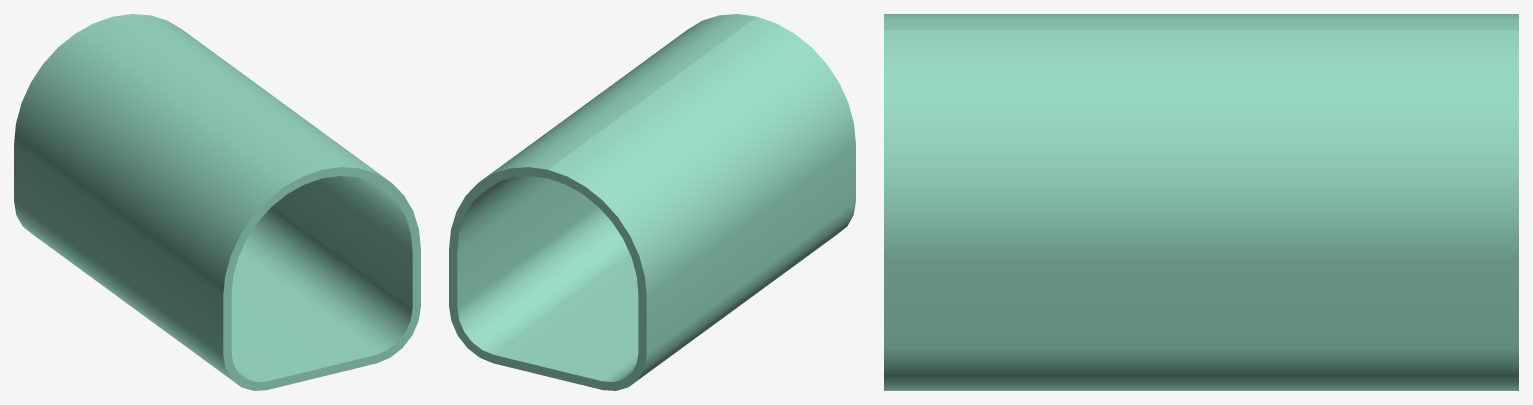
Rendered from GlassHallway.fbx.
The picture shows the model from 3 angles, left to right: view 1: azimuth 30°, elevation 25°; view 2: azimuth 150°, elevation 25°; view 3: azimuth 270°, elevation 25°; orthographic projection. The views are drawn at different scales.
Visible parts, largest first — view 1: pCube286; view 2: pCube286; view 3: pCube286.
Part boxes in pixels (left/top/right/bottom): pCube286: left=14, top=14, right=420, bottom=390; pCube286: left=449, top=14, right=855, bottom=390; pCube286: left=884, top=14, right=1518, bottom=390.
Size of the model in its own units: 546 by 546 by 1000.
